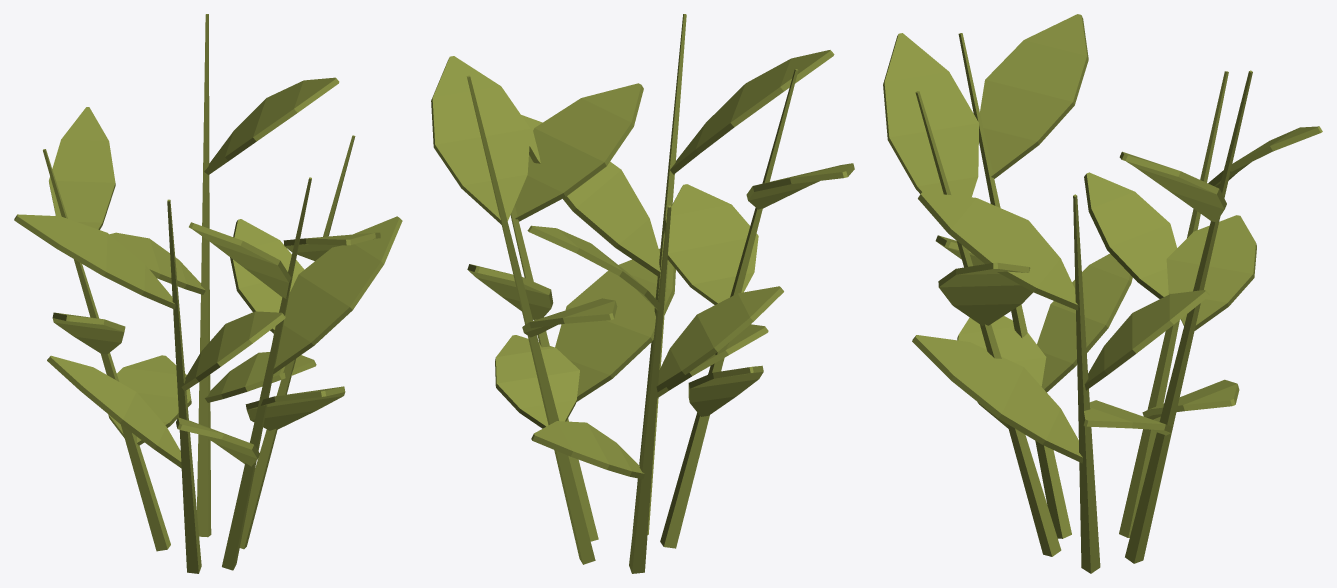
File: plant_013a_broad_pondweed.glb
The picture shows the model from 3 angles, left to right: view 1: azimuth 30°, elevation 25°; view 2: azimuth 150°, elevation 25°; view 3: azimuth 270°, elevation 25°; orthographic projection. The views are drawn at different scales.
Parts seen in each view (by area): view 1: plant_013a_broad_pondweed__broad_leaves, plant_013a_broad_pondweed__stems; view 2: plant_013a_broad_pondweed__broad_leaves, plant_013a_broad_pondweed__stems; view 3: plant_013a_broad_pondweed__broad_leaves, plant_013a_broad_pondweed__stems.
Part boxes in pixels (x1,y1,x2,y2): plant_013a_broad_pondweed__broad_leaves: (14,77,402,468); plant_013a_broad_pondweed__stems: (43,14,355,573); plant_013a_broad_pondweed__broad_leaves: (431,50,854,479); plant_013a_broad_pondweed__stems: (467,14,798,573); plant_013a_broad_pondweed__broad_leaves: (883,14,1322,463); plant_013a_broad_pondweed__stems: (915,33,1252,573).
Bounding box in the file's own units: 0.8439 × 1.09 × 0.8334.
